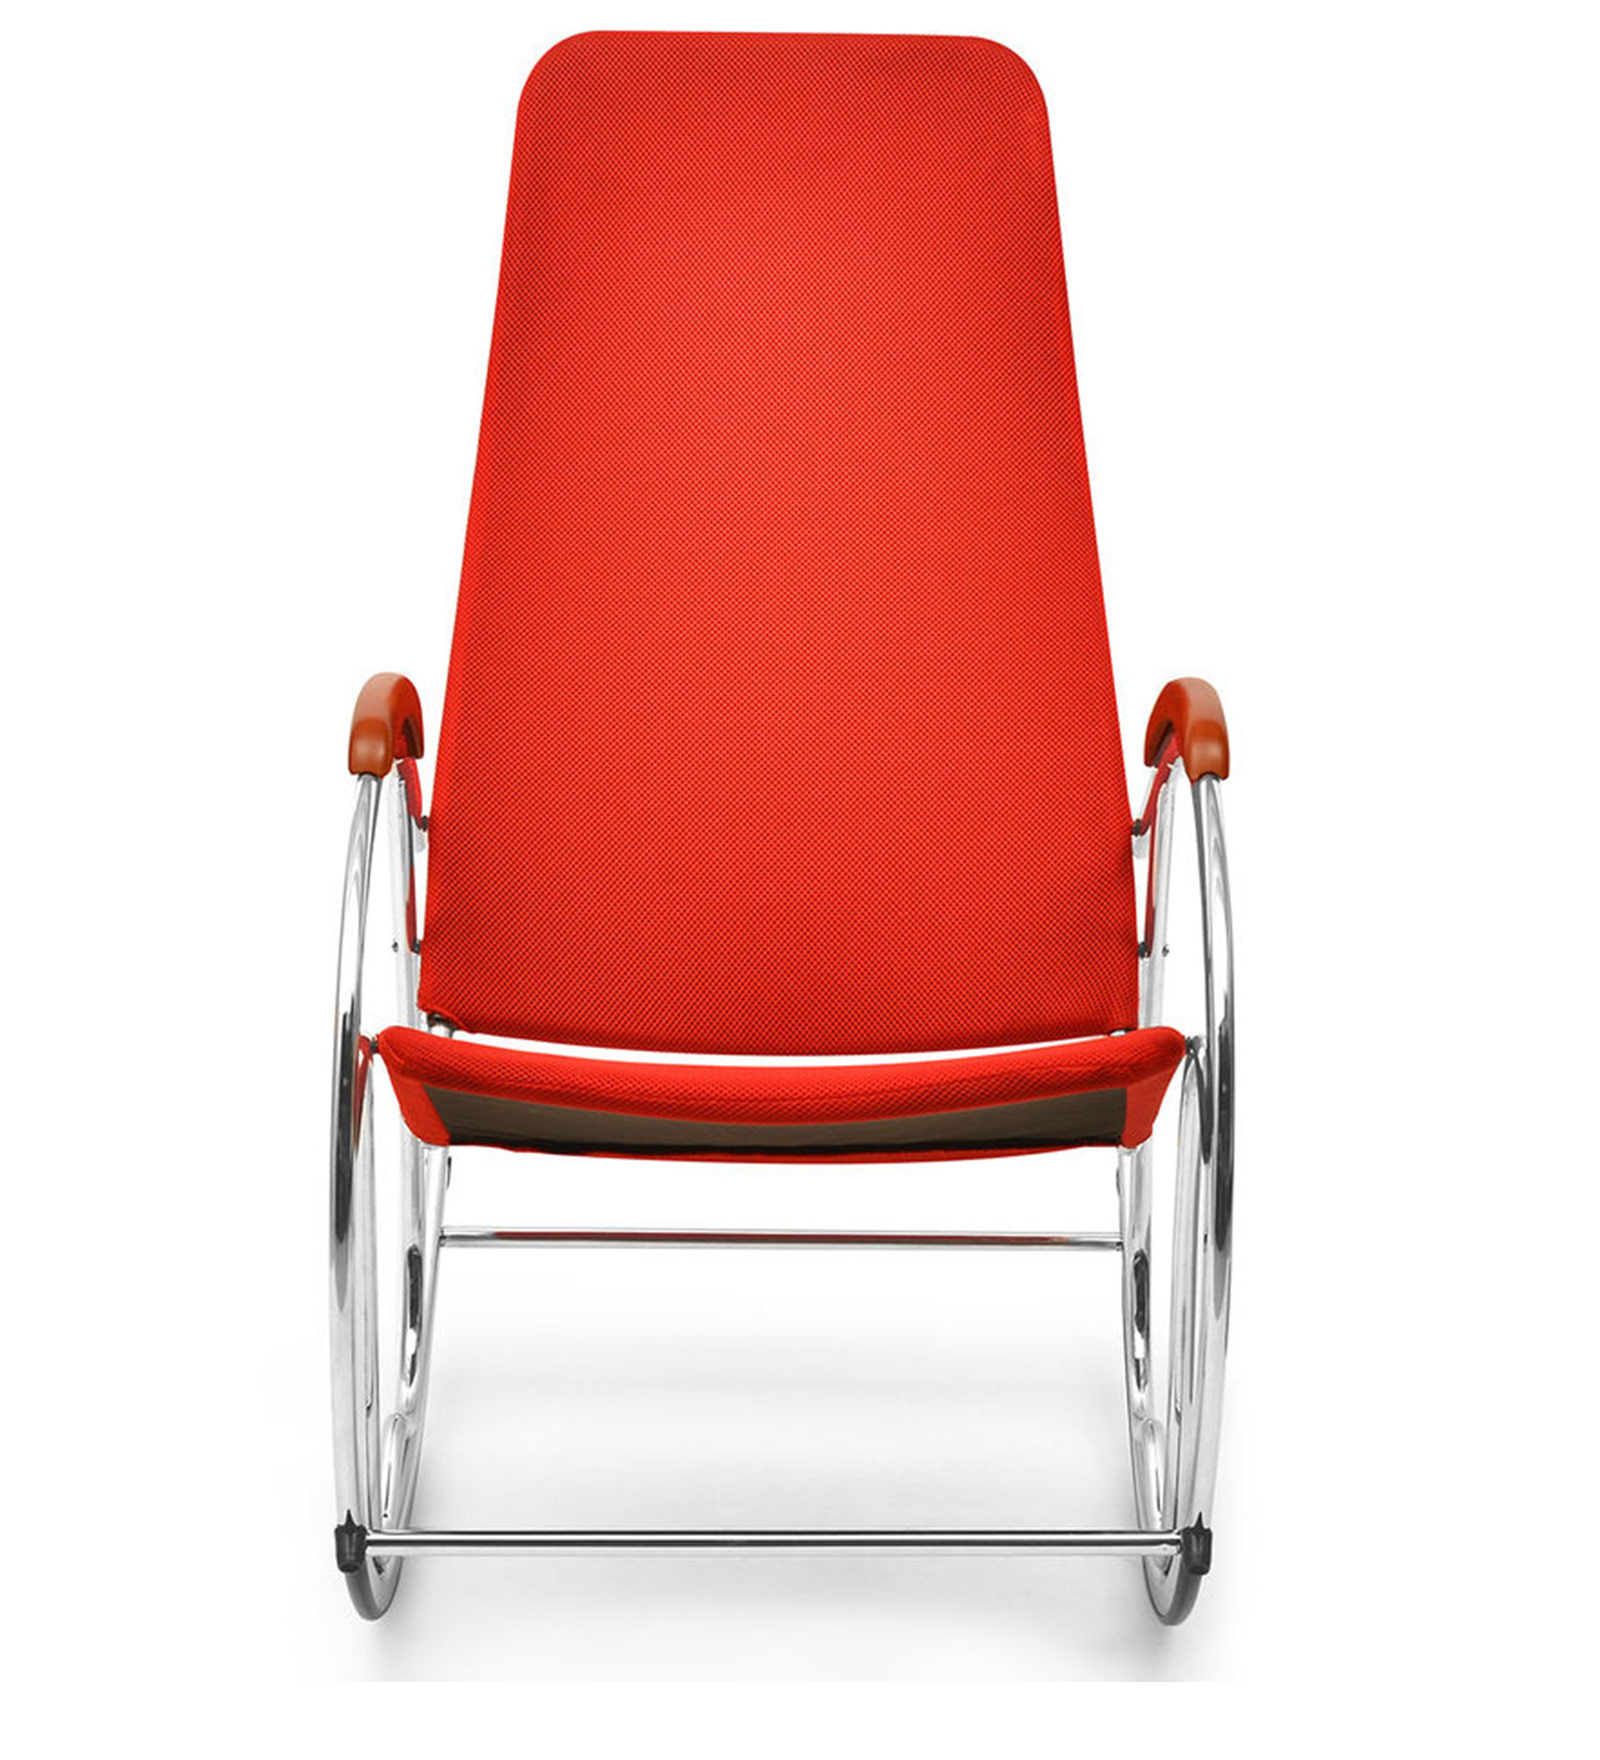Dylan Rocking Chair in Red Colour by Nilkamal: (247, 8, 1270, 1670)
